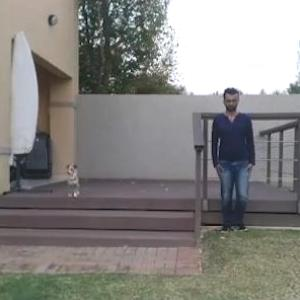follow: (211, 80, 256, 244)
